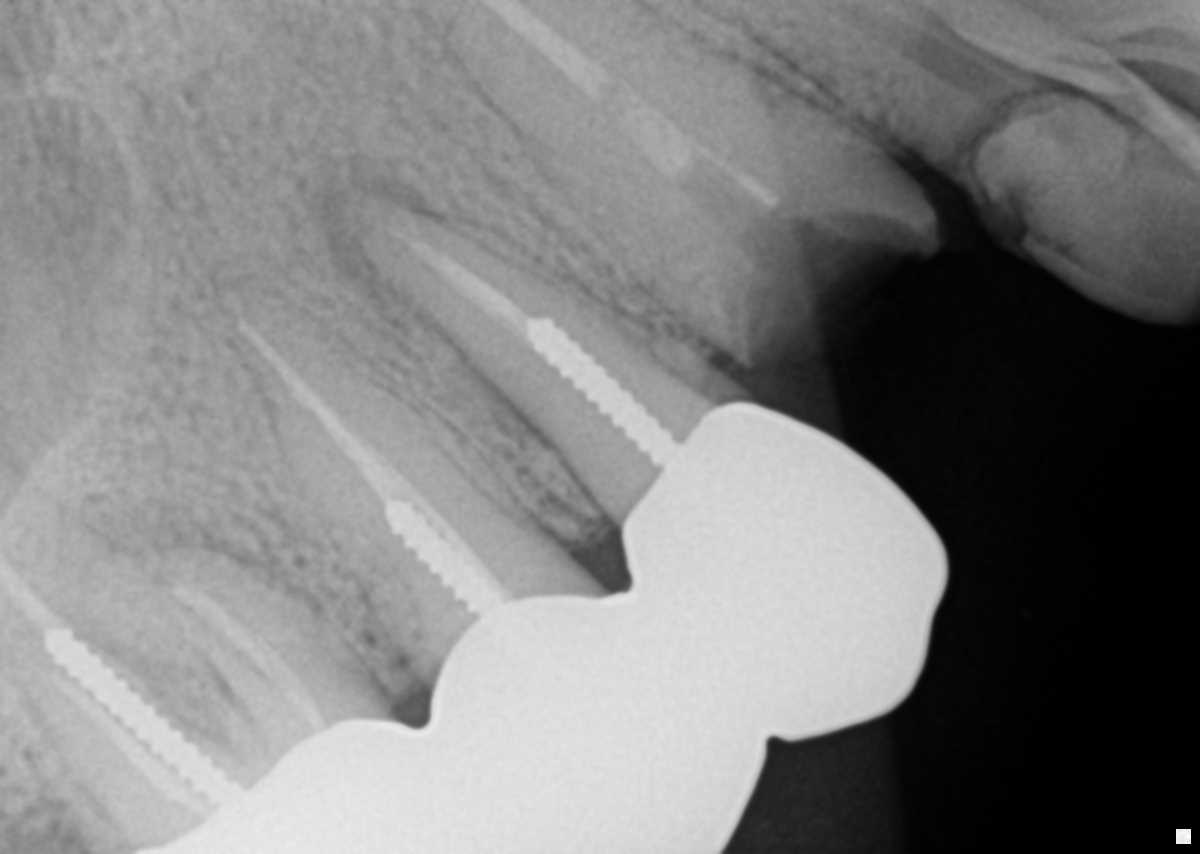Apical Lesion: (315, 154, 441, 292), (107, 501, 224, 585)
Main Canal: (807, 0, 1030, 113)
Main Root: (439, 0, 828, 353), (217, 280, 551, 668), (353, 192, 709, 514), (703, 0, 1082, 172)
Mesial Root: (160, 552, 383, 765)
Palatal Root: (0, 461, 274, 841)
Root Canal Filling: (237, 323, 502, 589), (478, 0, 774, 208), (172, 586, 325, 741), (385, 215, 539, 336)
decay: (747, 215, 928, 363)
